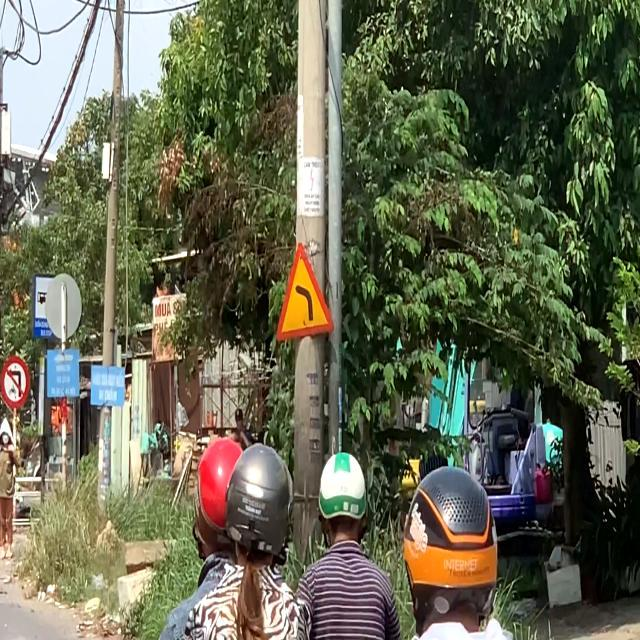cho ngoat nguy hiem vong ben trai: (274, 238, 336, 346)
